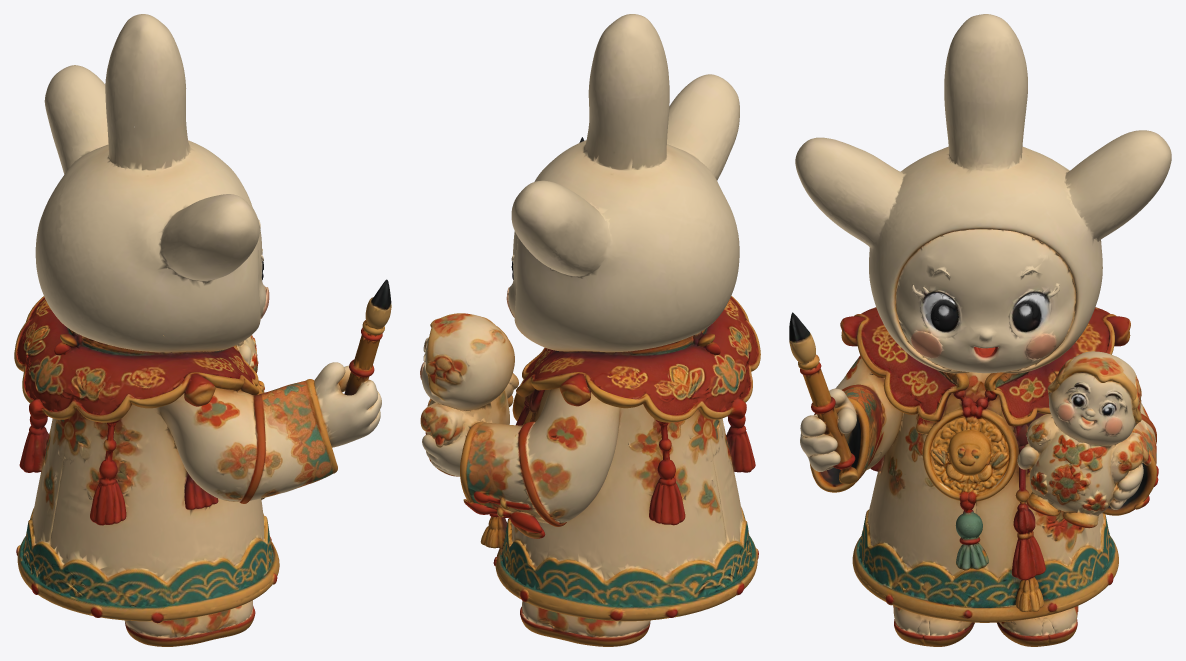
The model's file is NiSu.glb.
The picture shows the model from 3 angles, left to right: view 1: azimuth 30°, elevation 25°; view 2: azimuth 150°, elevation 25°; view 3: azimuth 270°, elevation 25°; orthographic projection.
Visible parts, largest first — view 1: tripo_node_39144bed-8d59-4f2d-be27-7ab95fd3953e; view 2: tripo_node_39144bed-8d59-4f2d-be27-7ab95fd3953e; view 3: tripo_node_39144bed-8d59-4f2d-be27-7ab95fd3953e.
Part boxes in pixels (bbox=[...]): tripo_node_39144bed-8d59-4f2d-be27-7ab95fd3953e: bbox=[14, 14, 391, 646]; tripo_node_39144bed-8d59-4f2d-be27-7ab95fd3953e: bbox=[420, 14, 760, 646]; tripo_node_39144bed-8d59-4f2d-be27-7ab95fd3953e: bbox=[789, 14, 1171, 646].
Bounding box in the file's own units: 0.462 × 0.98 × 0.5687.
1 material, 1 textured.
